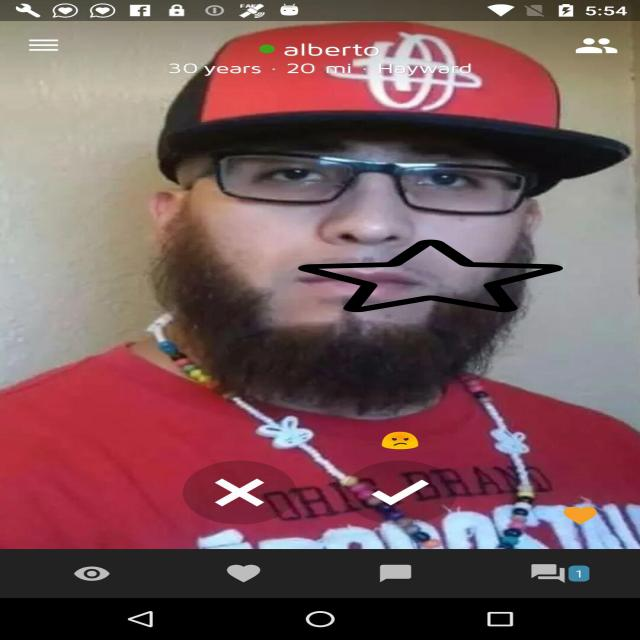forced continuity: (298, 238, 563, 314)
